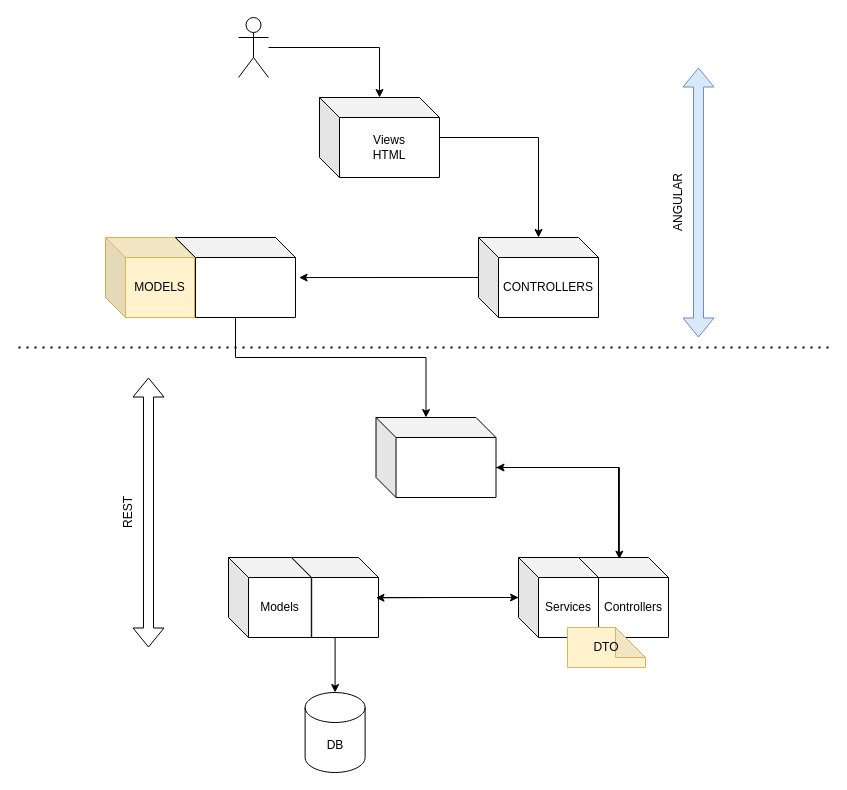
Some shapes in this 847 by 790 pixel diagram are drawn without their labels. Each missing label, with the centre of its shape:
Client: (x=253, y=47)
Repository: (x=334, y=597)
SERVICES REPOS: (x=235, y=277)
View REST Json: (x=435, y=457)
